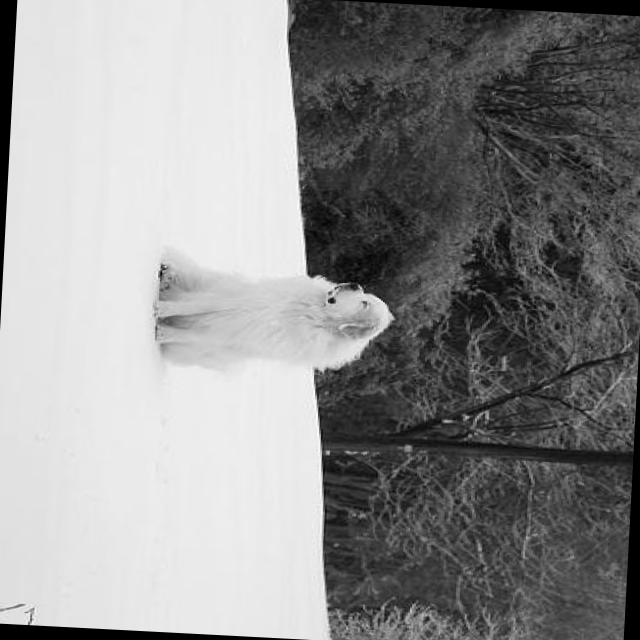sitting: (142, 247, 408, 390)
